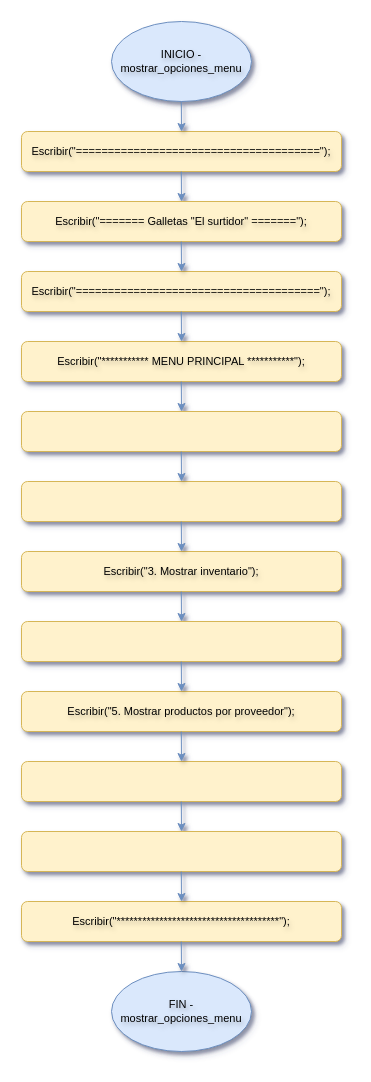
The diagram is 371 pixels wide and 1082 high, and some of its shapes have lost their labels. Here are the shapes that lost their labels. From the top down, the centre of each, then its label:
pixel 182 432: Escribir("1. Registrar un producto");
pixel 182 502: Escribir("2. Modificar datos de un producto");
pixel 182 642: Escribir("4. Mostrar productos por existencia menor a la ingresada");
pixel 182 782: Escribir("6. Mostrar productos por precio mayor al ingresado");
pixel 182 852: Escribir("7. Salir");
